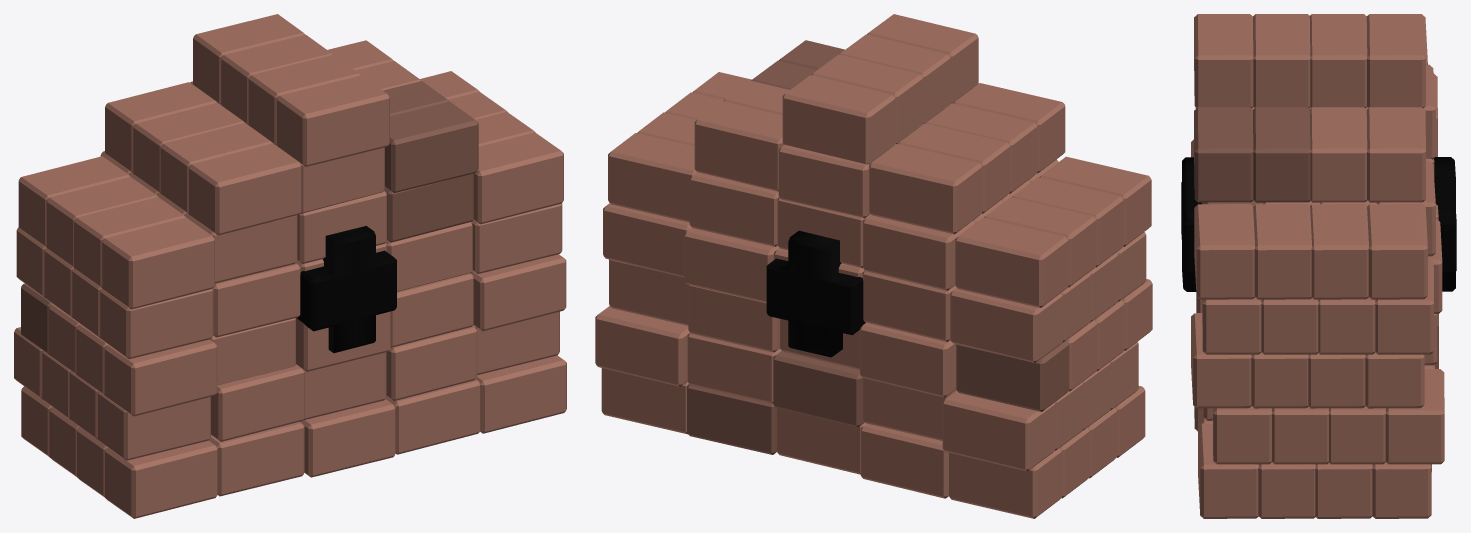
Rendered from Wall Corner_Top.fbx.
3 renders of one model, left to right at view 1: azimuth 30°, elevation 25°; view 2: azimuth 150°, elevation 25°; view 3: azimuth 270°, elevation 25°, orthographic. The views are drawn at different scales.
Parts seen in each view (by area): view 1: Wall2.001; view 2: Wall2.001; view 3: Wall2.001.
Boxes of the visible parts, <box> form: Wall2.001: <box>14,14,566,518</box>; Wall2.001: <box>595,14,1152,518</box>; Wall2.001: <box>1181,14,1456,518</box>.
Bounding box in the file's own units: 280 × 221 × 147.
